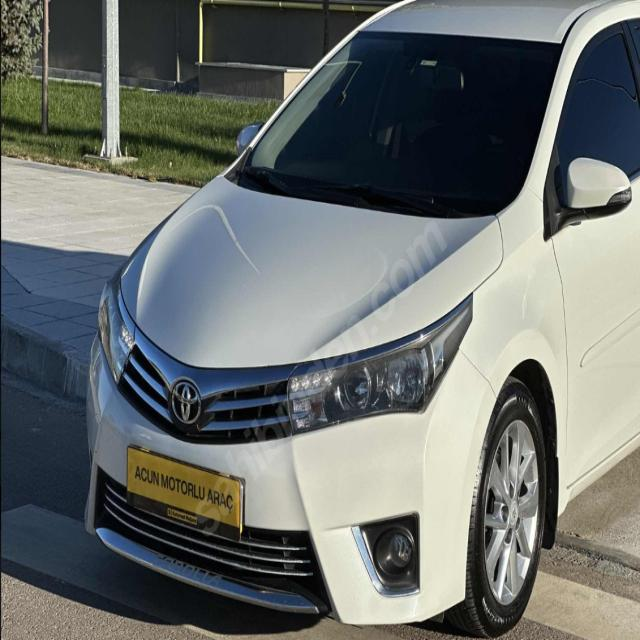toyota: (165, 373, 206, 428)
